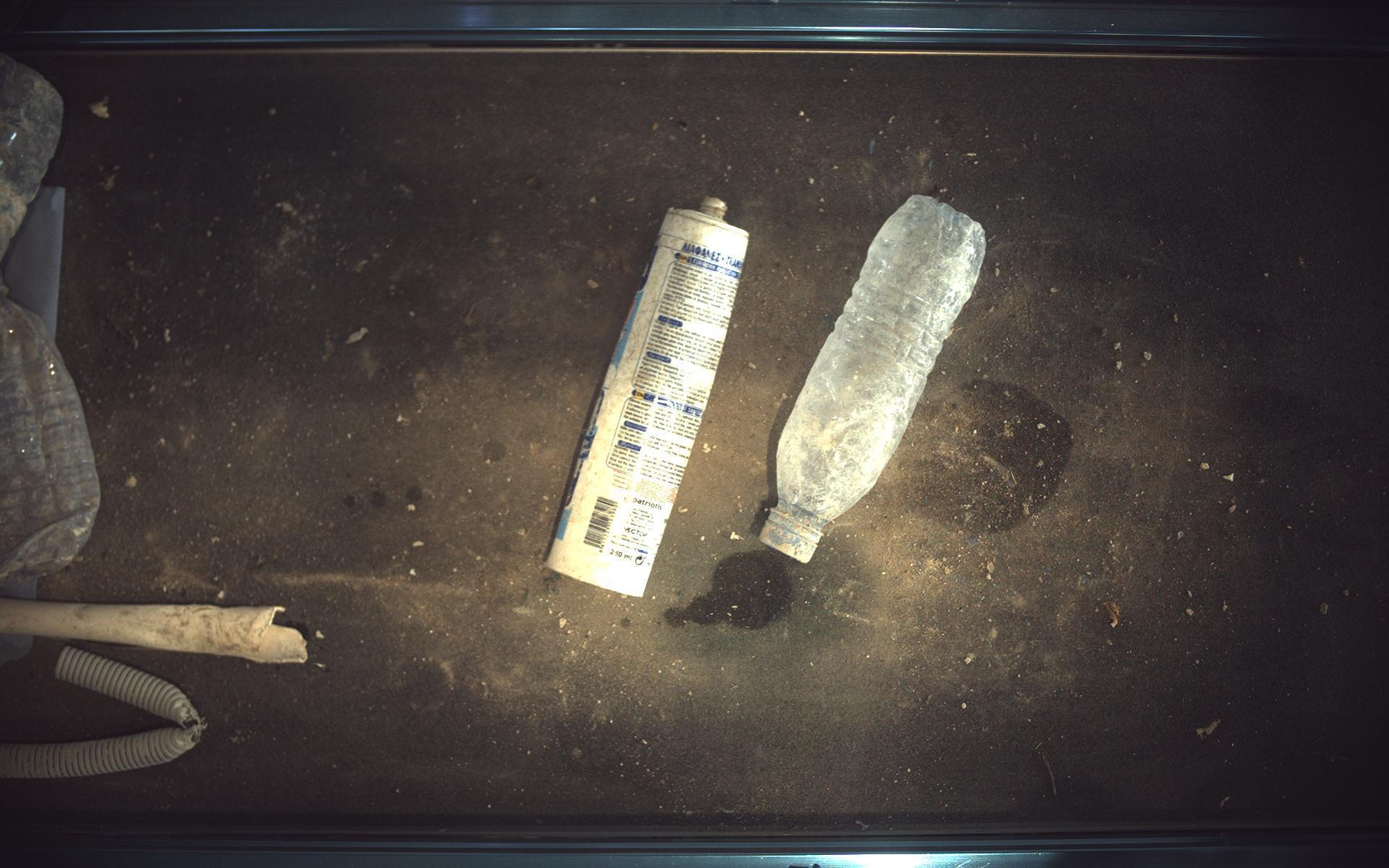general_w: (762, 195, 987, 563), (1, 294, 98, 582), (1, 53, 61, 257)
pipes: (1, 647, 205, 780), (1, 600, 306, 664)
plastic: (547, 197, 750, 597)
